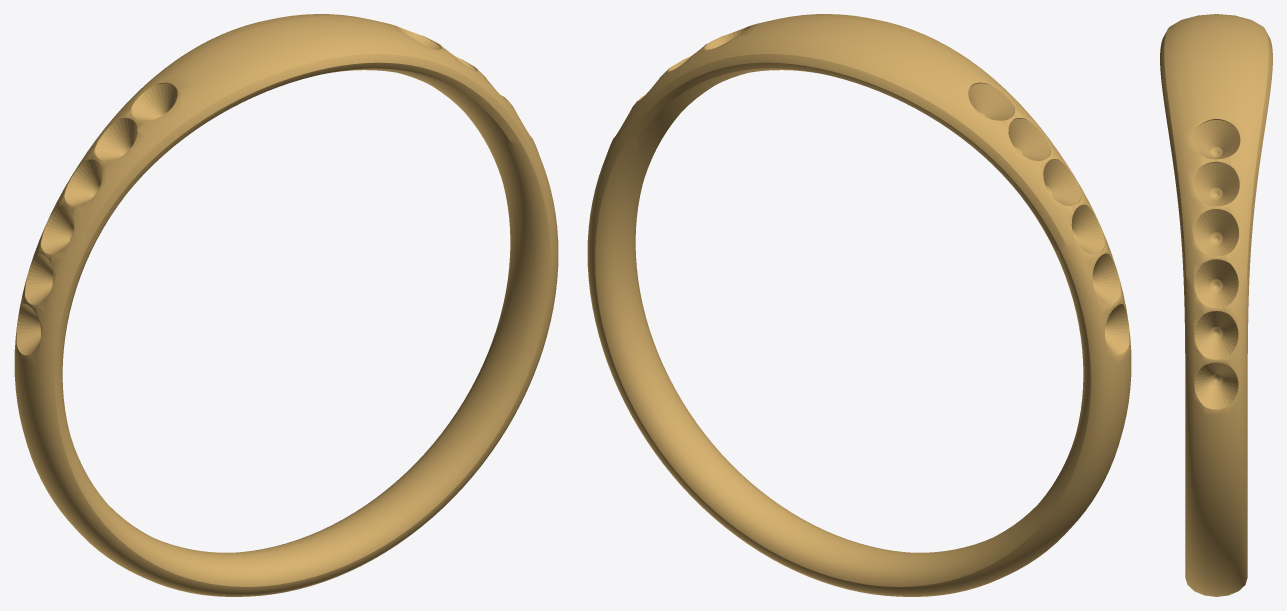
File: reverse-tapered-channel.glb
The picture shows the model from 3 angles, left to right: view 1: azimuth 30°, elevation 25°; view 2: azimuth 150°, elevation 25°; view 3: azimuth 270°, elevation 25°; orthographic projection. The views are drawn at different scales.
Parts seen in each view (by area): view 1: Band; view 2: Band; view 3: Band.
Boxes of the visible parts, <box> form: Band: <box>14,14,558,596</box>; Band: <box>587,14,1131,596</box>; Band: <box>1160,14,1272,596</box>.
Bounding box in the file's own units: 19.6 × 19.6 × 3.8.
